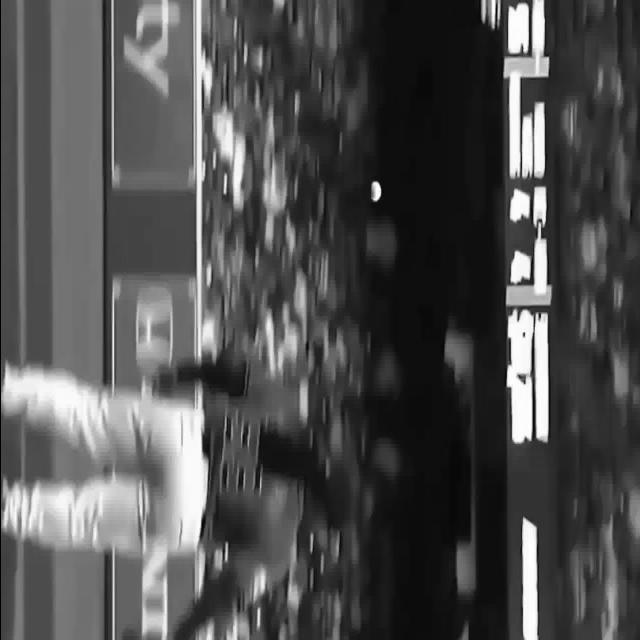baseball: (369, 180, 382, 202)
baseball_glove: (152, 364, 178, 398)
shoe: (0, 472, 8, 534), (0, 358, 6, 417)
